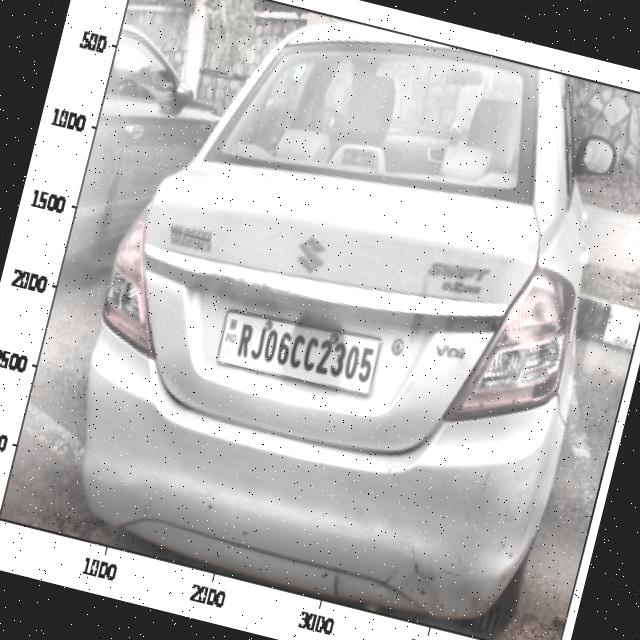license_plate: (224, 309, 383, 398)
